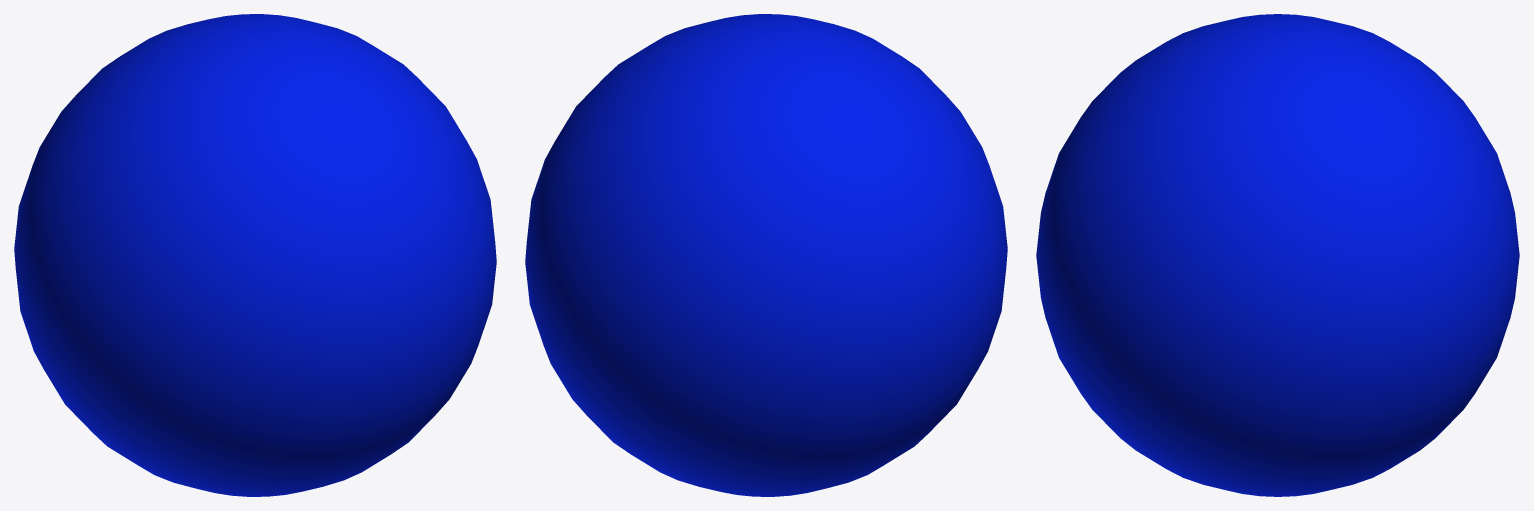
The model's file is Orbe_Cross.fbx.
The picture shows the model from 3 angles, left to right: view 1: azimuth 30°, elevation 25°; view 2: azimuth 150°, elevation 25°; view 3: azimuth 270°, elevation 25°; orthographic projection.
Visible parts, largest first — view 1: Orbe_Cross; view 2: Orbe_Cross; view 3: Orbe_Cross.
Part boxes in pixels (left/top/right/bottom): Orbe_Cross: left=14, top=14, right=496, bottom=496; Orbe_Cross: left=525, top=14, right=1007, bottom=496; Orbe_Cross: left=1036, top=14, right=1519, bottom=496.
Size of the model in its own units: 200 by 200 by 200.
